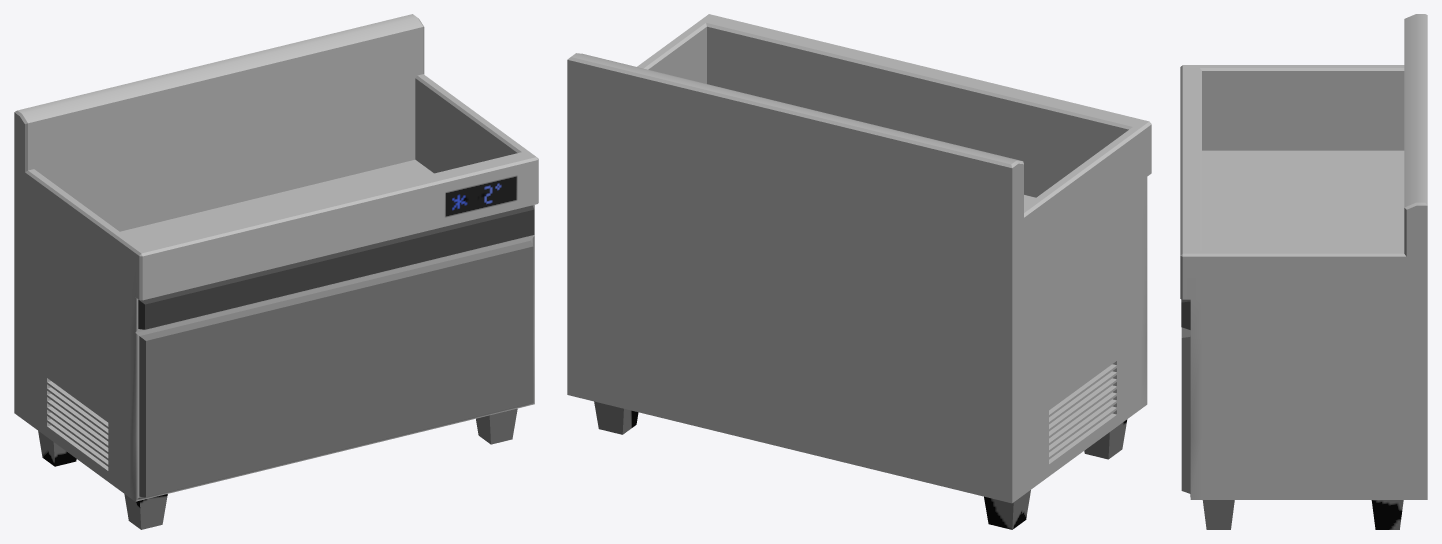
Rendered from Refrigerator 1.fbx.
The picture shows the model from 3 angles, left to right: view 1: azimuth 30°, elevation 25°; view 2: azimuth 150°, elevation 25°; view 3: azimuth 270°, elevation 25°; orthographic projection. The views are drawn at different scales.
Parts seen in each view (by area): view 1: pRefrigerator; view 2: pRefrigerator; view 3: pRefrigerator.
Boxes of the visible parts, x1,y1,x2,y2 form: pRefrigerator: [14, 14, 538, 529]; pRefrigerator: [567, 14, 1151, 529]; pRefrigerator: [1180, 14, 1427, 529].
Size of the model in its own units: 2 by 1.63 by 1.1.
